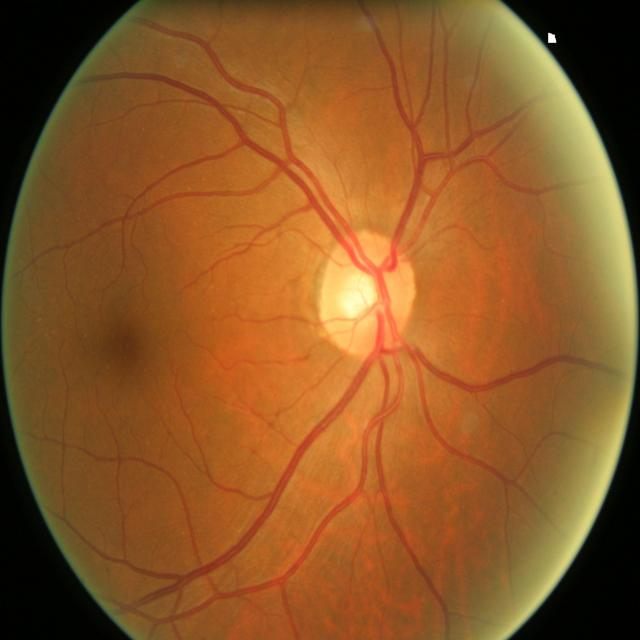OC: (340, 267, 385, 319)
OD: (318, 234, 418, 355)
